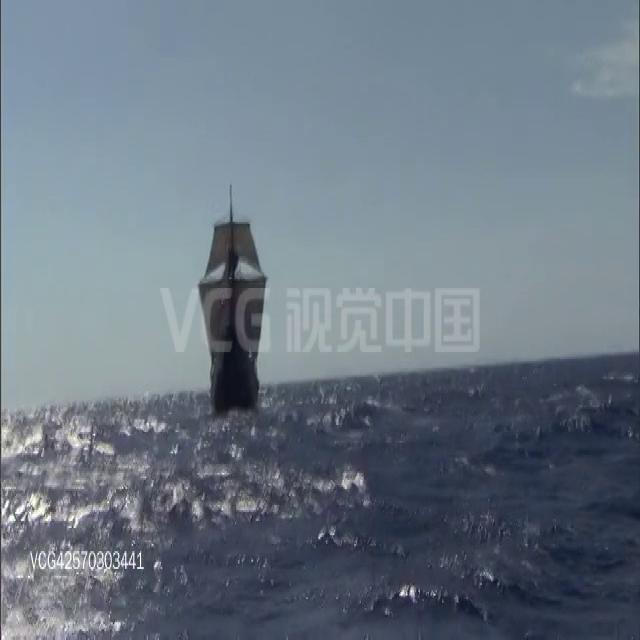sailboat: (197, 171, 267, 408)
